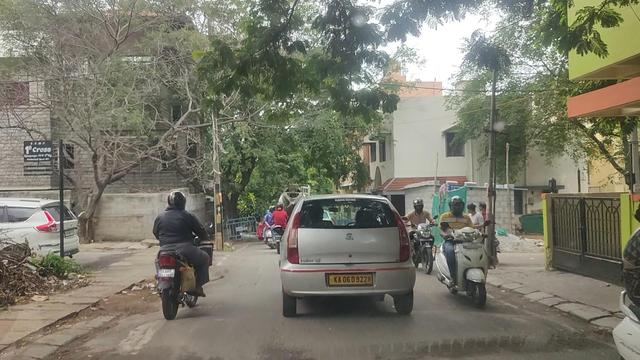LMV: (279, 202, 407, 320), (153, 190, 206, 309), (440, 195, 489, 312)
RoadDamages: (59, 326, 145, 360)
